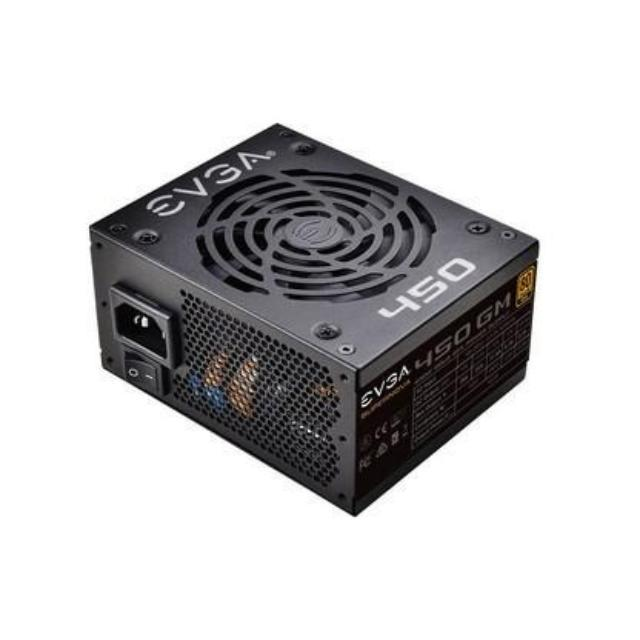PSU: (86, 124, 546, 502)
